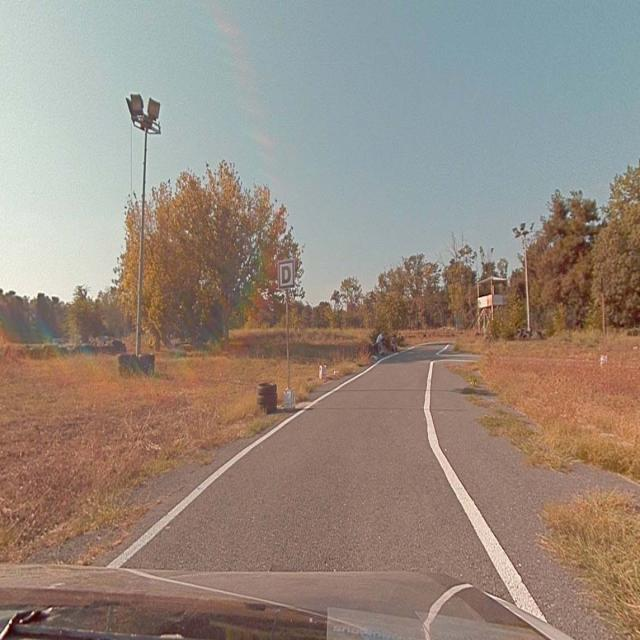durak: (278, 260, 295, 288)
